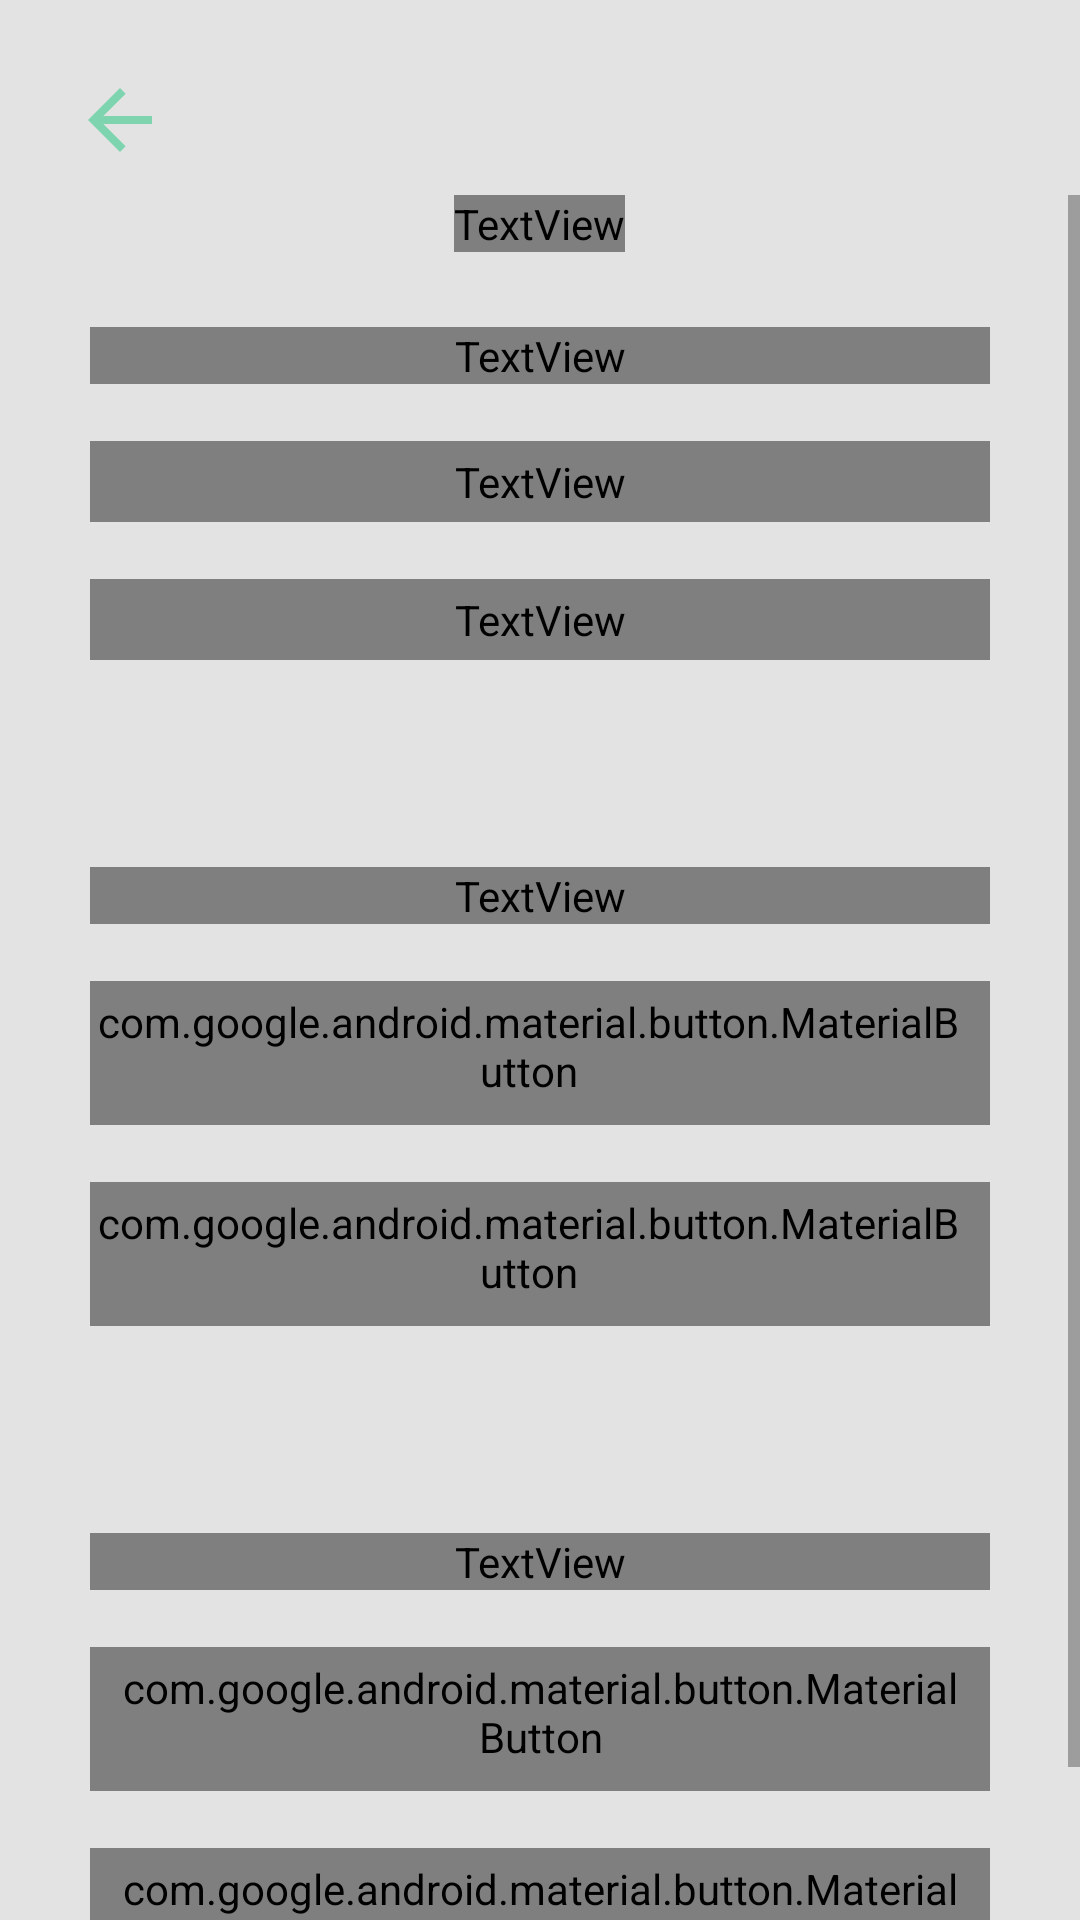

Named icons in this screenshot (1080px×1920px) and their centers, [x,y]:
arrow back: [120,120]
